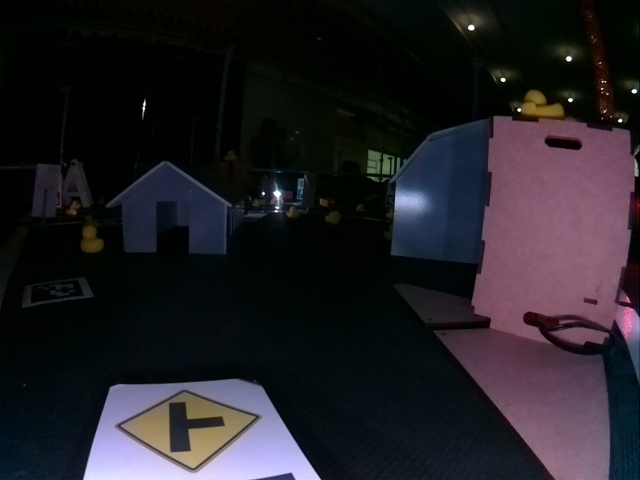Duckie: (521, 90, 562, 116), (81, 226, 101, 252), (327, 211, 338, 223), (287, 207, 297, 217)
Intersection sign: (116, 388, 257, 469)
QR code: (25, 278, 92, 307)
